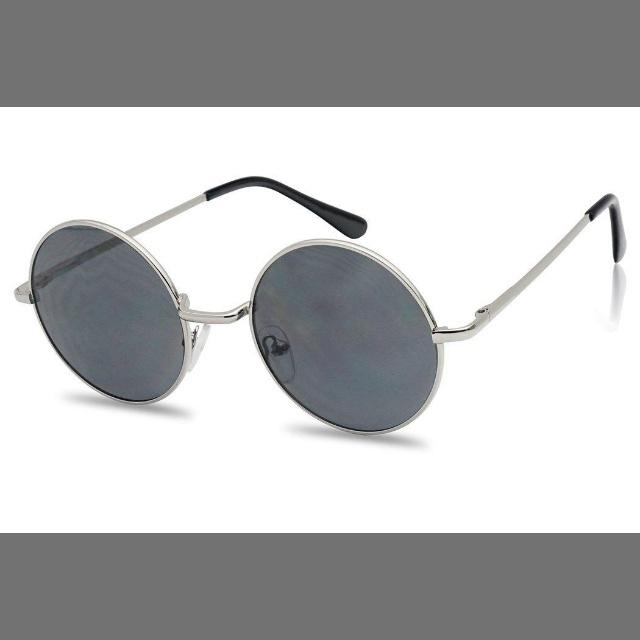Sunglasses: (10, 159, 634, 443)
